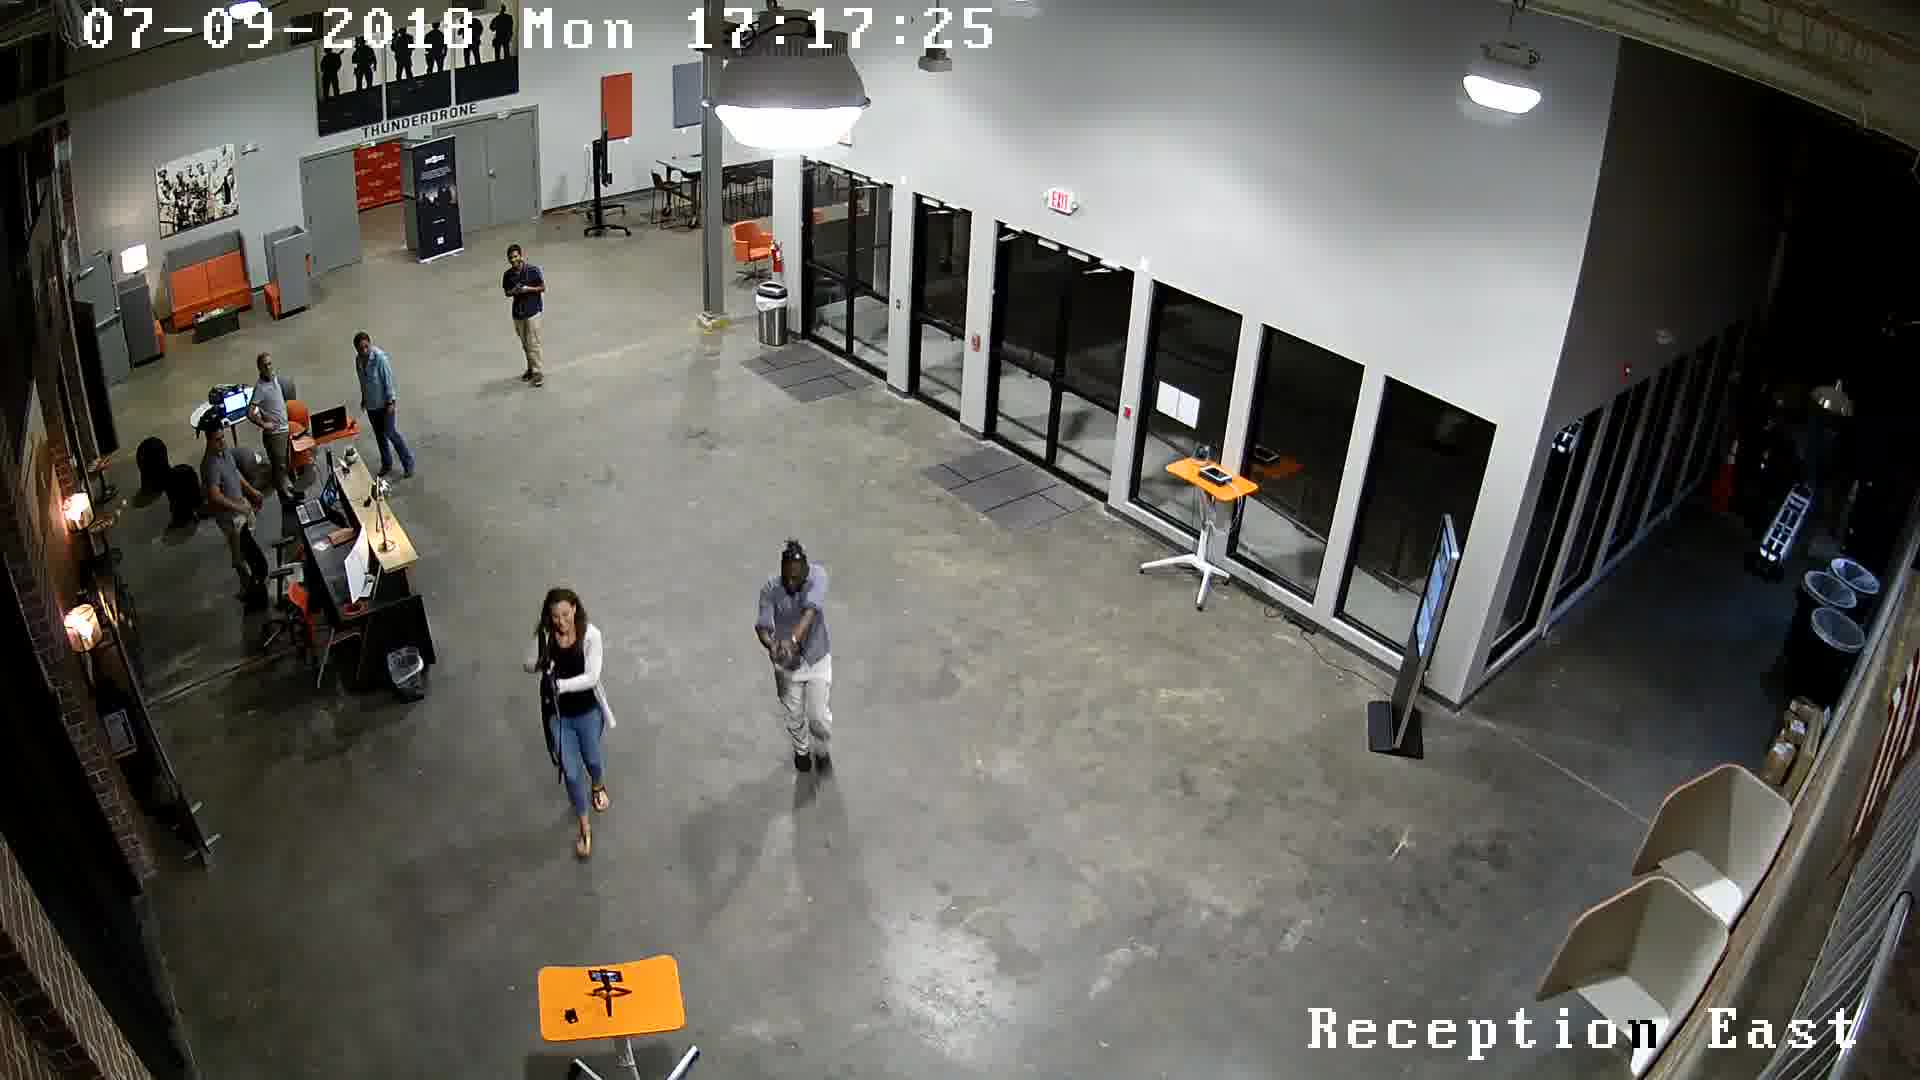pistol: (754, 633, 795, 680), (502, 276, 529, 301)
